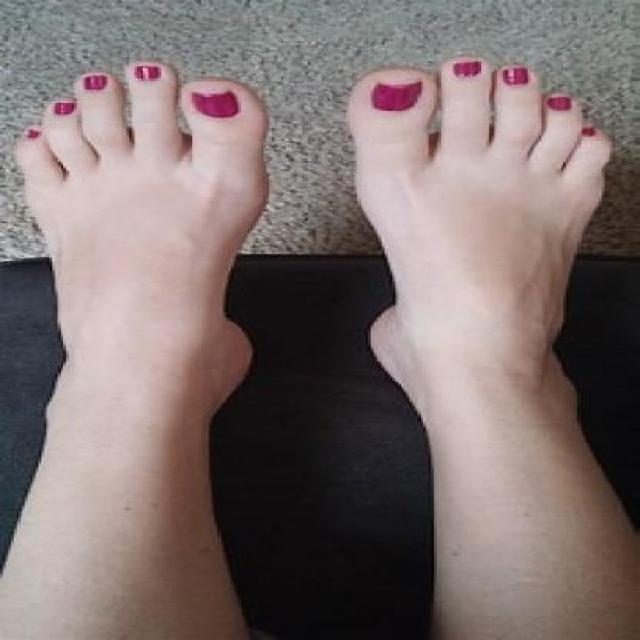No_Shoes: (13, 40, 269, 457), (330, 30, 619, 393)
